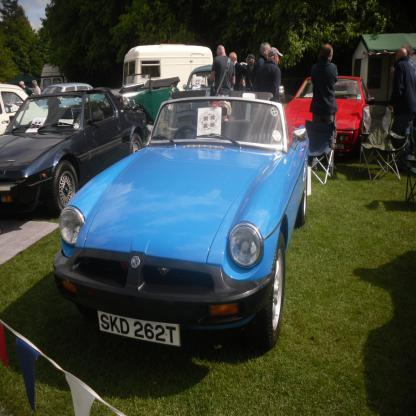car: (48, 89, 312, 352), (0, 88, 146, 220), (278, 68, 377, 154), (124, 66, 214, 127), (0, 81, 29, 138)
